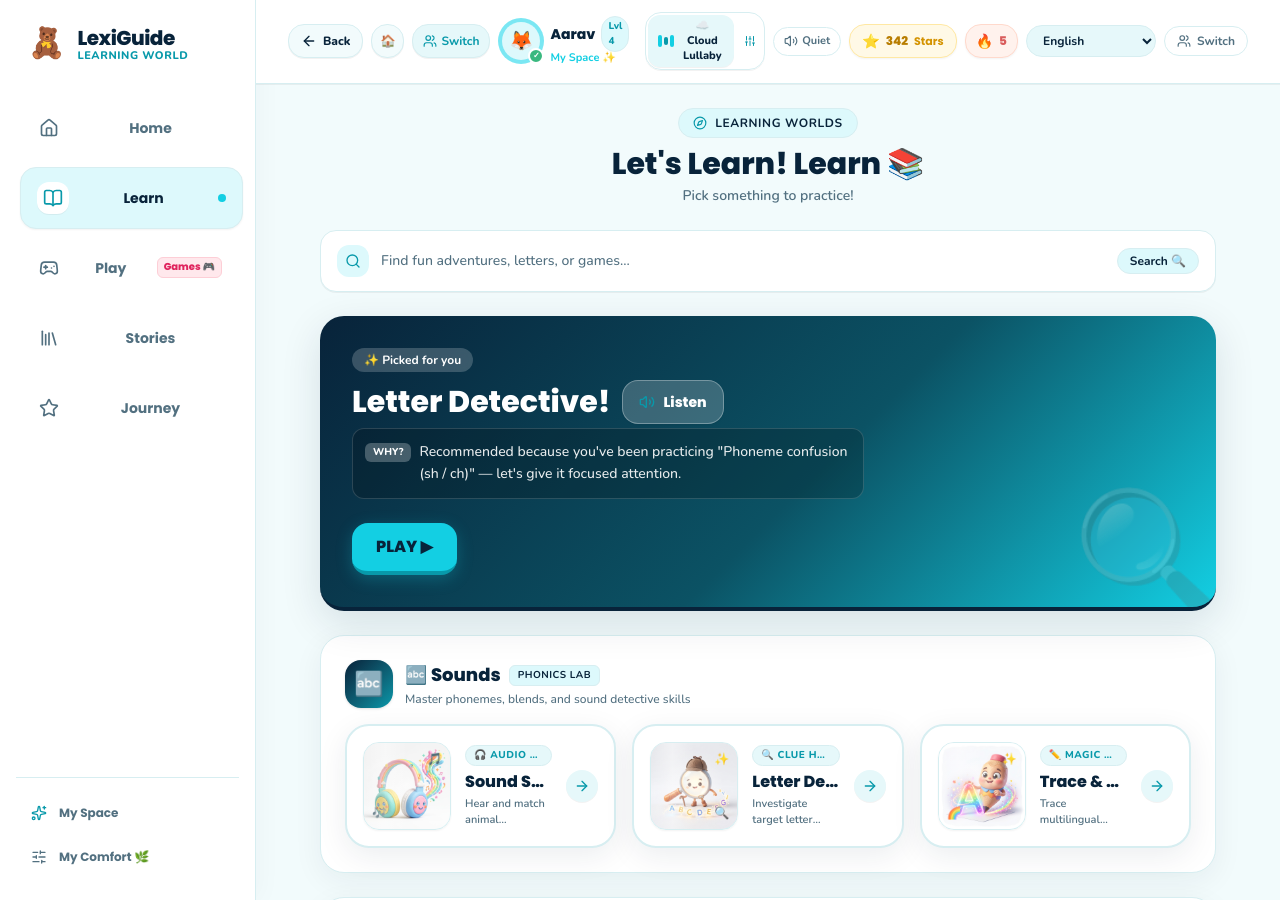
Test: Connected Learning Platform — Page Data Flow & Integration › 11. Clicking a game category launches game route
Click the text "Sound Safari" at (509, 782), box [465,770,552,794]
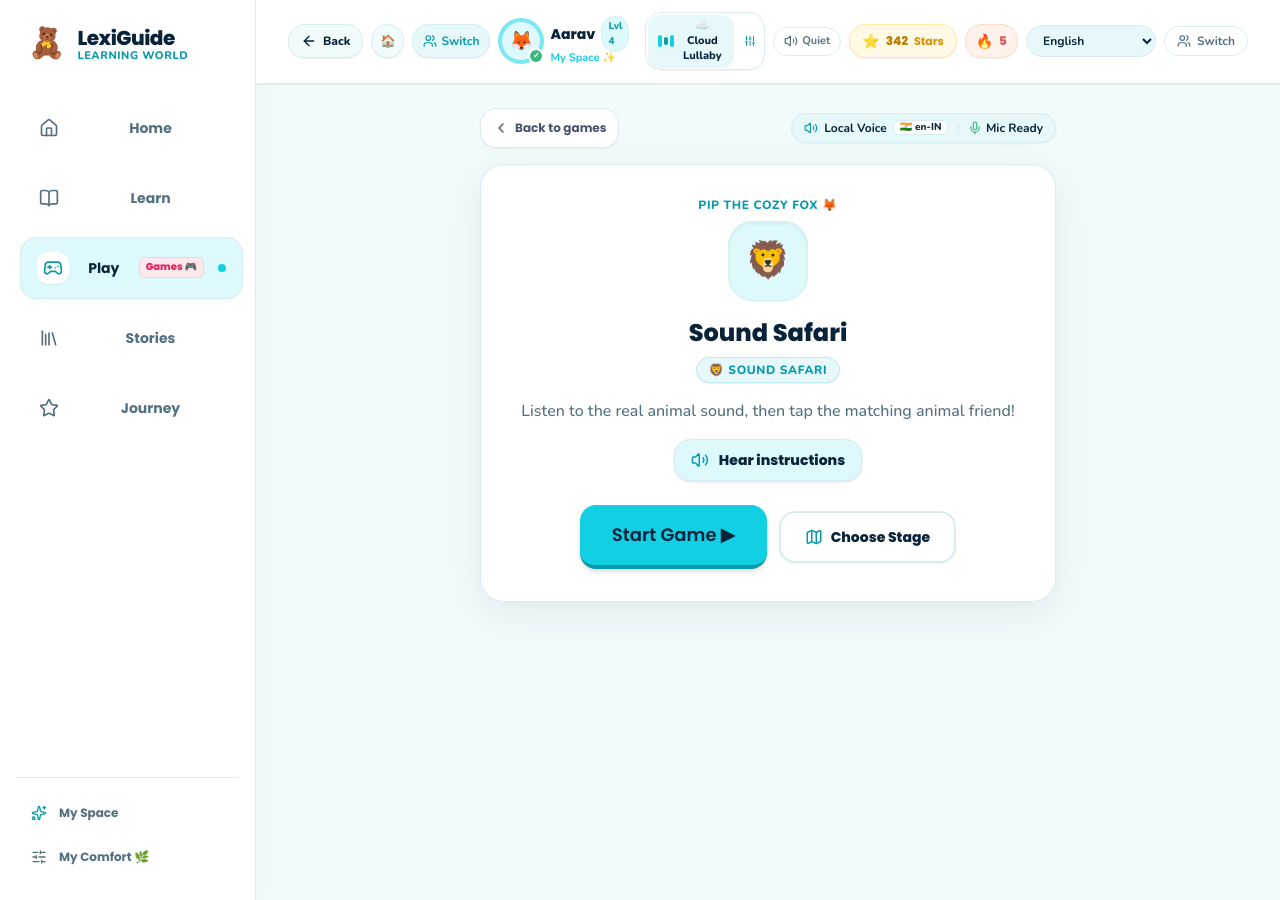
Expected: the button "Start Game ▶" is shown, [580,504,767,568]
